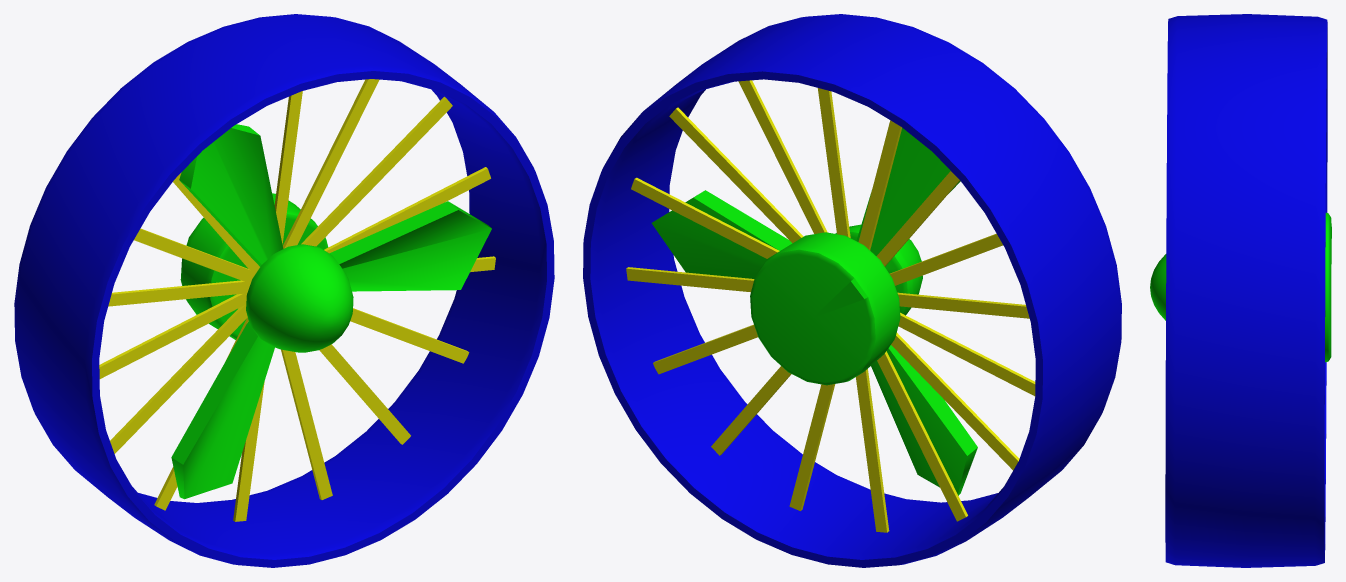
Rendered from Fan.fbx.
3 views of the same model, side by side, from view 1: azimuth 30°, elevation 25°; view 2: azimuth 150°, elevation 25°; view 3: azimuth 270°, elevation 25° (orthographic).
Parts seen in each view (by area): view 1: pPipe2, pSphere2; view 2: pPipe2, pSphere2; view 3: pPipe2, pSphere2.
Boxes of the visible parts, left/top/right/bottom form: pPipe2: left=14, top=14, right=554, bottom=567; pSphere2: left=171, top=124, right=491, bottom=499; pPipe2: left=583, top=14, right=1121, bottom=567; pSphere2: left=651, top=128, right=977, bottom=495; pPipe2: left=1165, top=14, right=1327, bottom=567; pSphere2: left=1150, top=212, right=1331, bottom=362.
Size of the model in its own units: 5.63 by 5.63 by 1.85.
